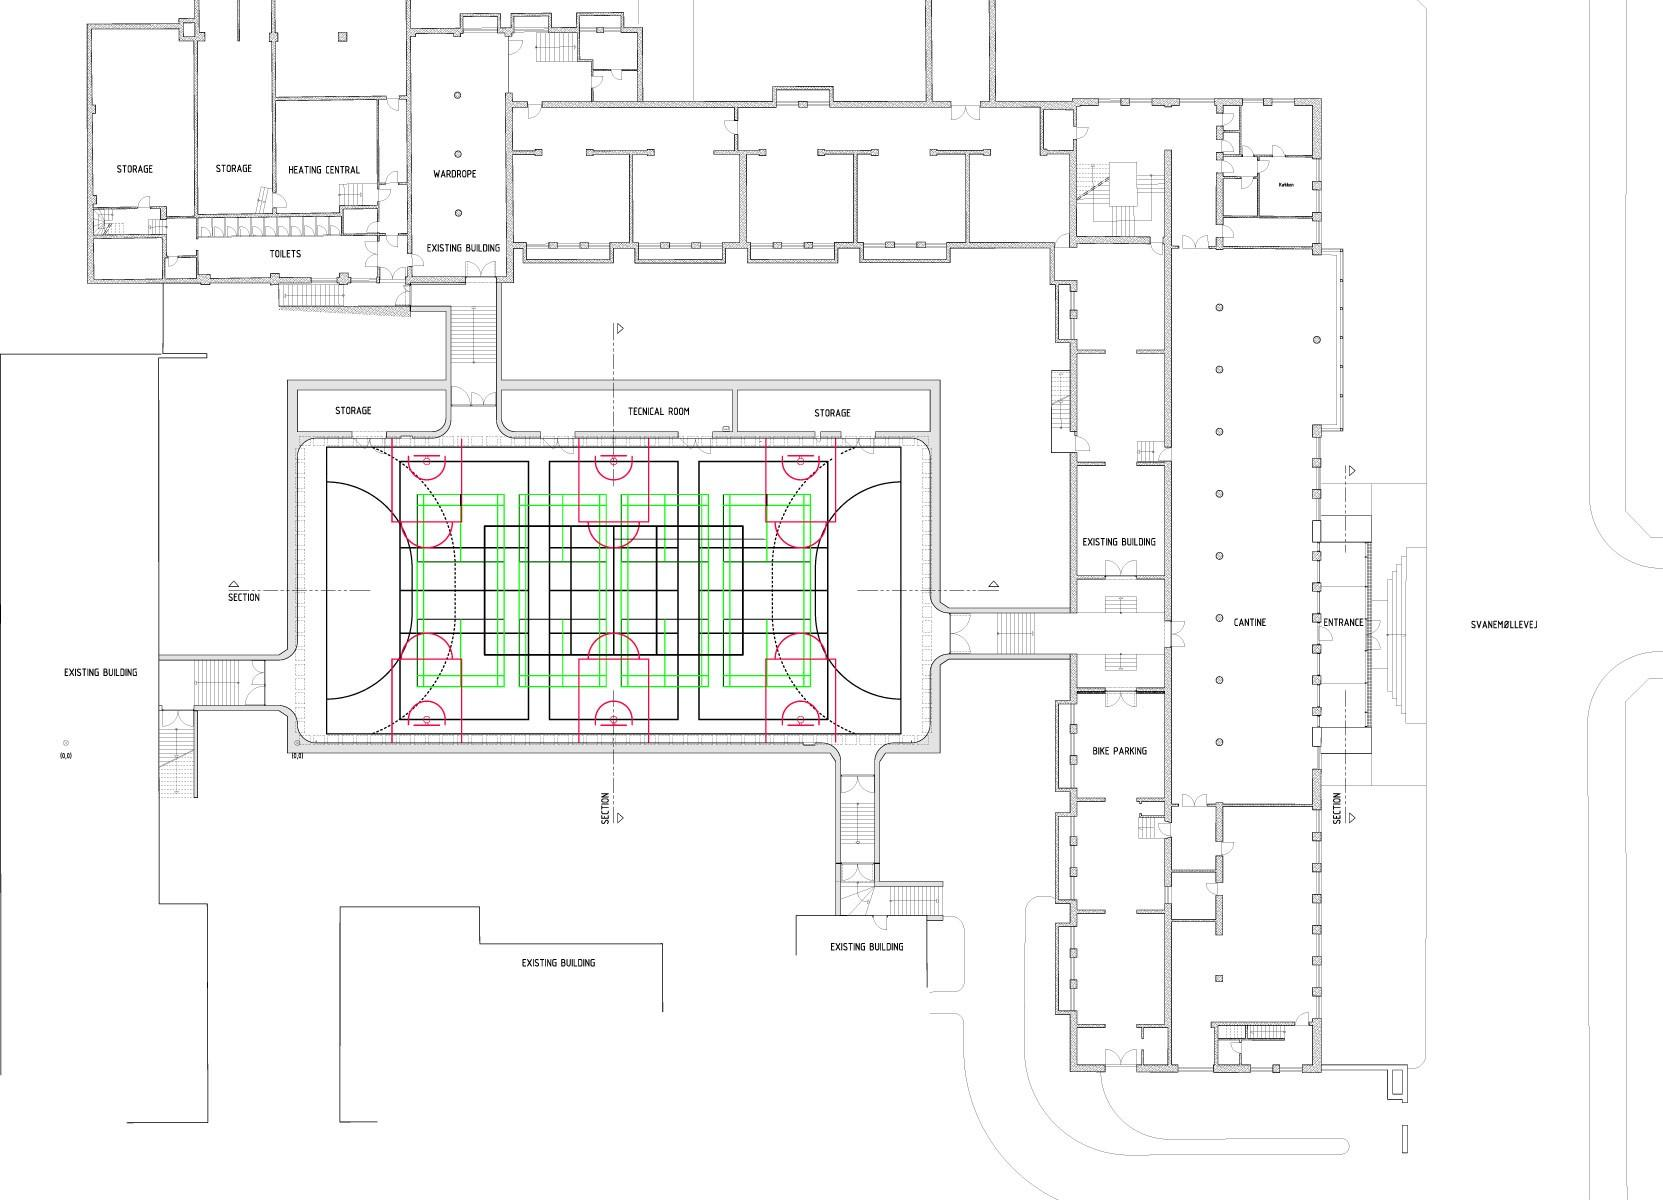room: (409, 31, 510, 279), (90, 26, 196, 208), (1074, 101, 1168, 240), (275, 99, 378, 214), (198, 214, 378, 279), (498, 386, 735, 435), (514, 151, 634, 247), (511, 105, 737, 155), (1072, 351, 1170, 464), (1073, 911, 1168, 1026), (1072, 687, 1168, 800), (1073, 800, 1170, 911), (1073, 464, 1168, 576), (742, 152, 856, 245), (1073, 242, 1168, 351), (856, 152, 968, 245), (631, 152, 745, 244), (967, 152, 1073, 244), (735, 388, 935, 434), (293, 386, 447, 433), (1241, 102, 1318, 155), (1259, 156, 1320, 217), (578, 14, 640, 70), (1170, 805, 1220, 871), (1073, 1026, 1143, 1068), (377, 98, 409, 183), (1170, 871, 1220, 921), (378, 183, 411, 235), (593, 70, 642, 103), (378, 235, 411, 282), (1220, 177, 1258, 217), (1221, 155, 1259, 177), (1216, 1039, 1241, 1066), (1219, 103, 1240, 132), (1219, 132, 1241, 155), (1216, 1024, 1246, 1039)
